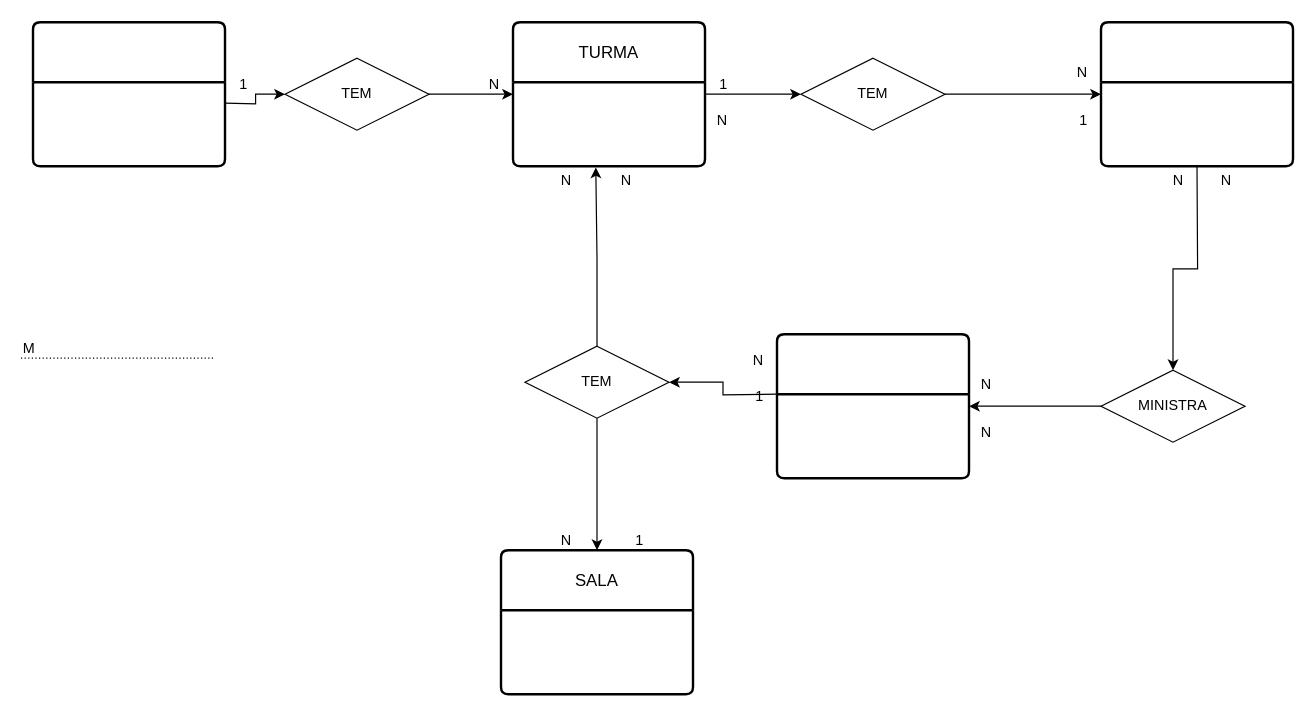
Some shapes in this 1315 by 715 pixel diagram are drawn without their labels. The shapes that lost their labels are listed below. From the top down, each one's centre as x and y in pixels, then its label:
point 128,93: ESCOLA
point 1196,93: PROF
point 872,405: AULA
